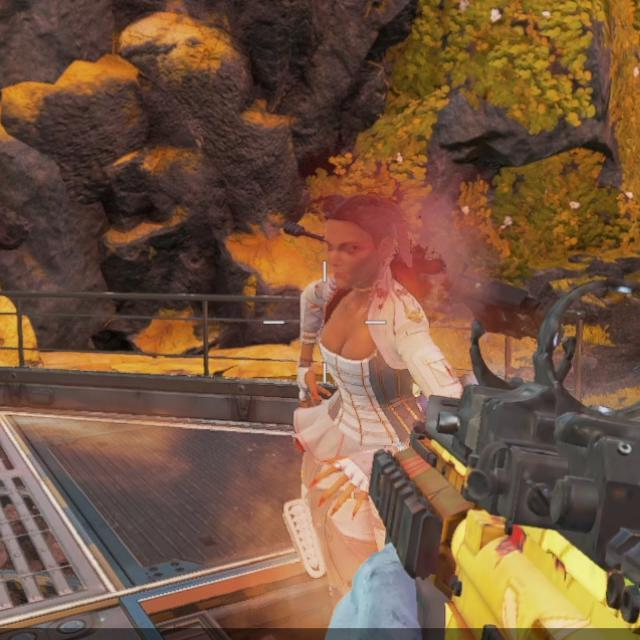avatar: (280, 190, 433, 584)
